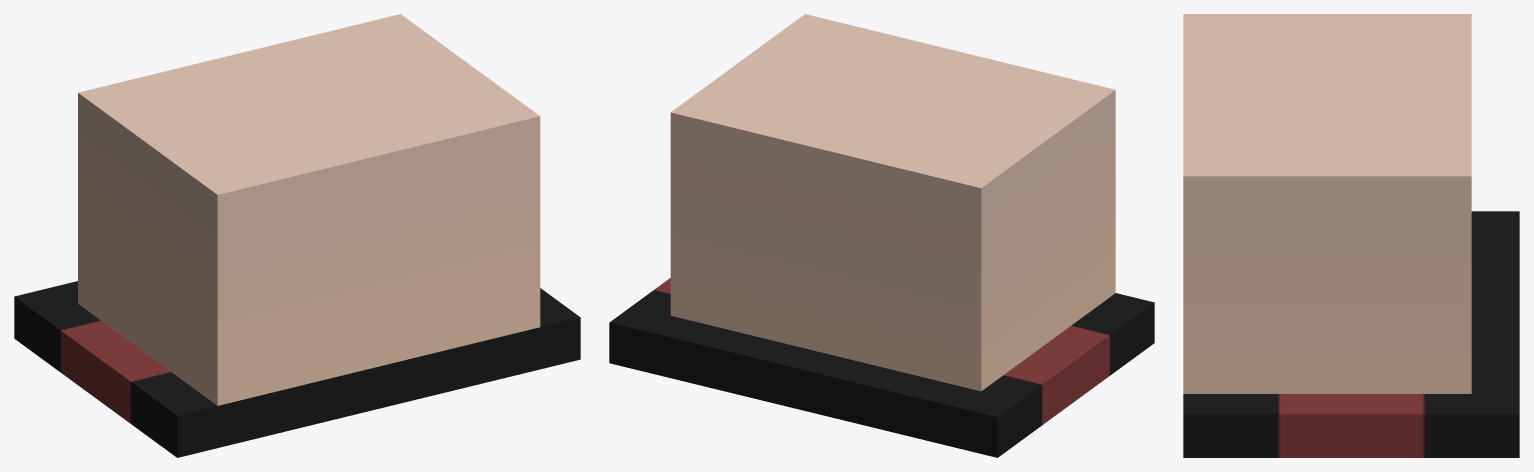
File: Spine054.fbx
The picture shows the model from 3 angles, left to right: view 1: azimuth 30°, elevation 25°; view 2: azimuth 150°, elevation 25°; view 3: azimuth 270°, elevation 25°; orthographic projection. The views are drawn at different scales.
Parts seen in each view (by area): view 1: Spine054; view 2: Spine054; view 3: Spine054.
Part boxes in pixels (x1,y1,x2,y2): Spine054: (14,14,580,457); Spine054: (609,14,1154,457); Spine054: (1183,14,1519,457).
Size of the model in its own units: 10 by 6 by 7.
